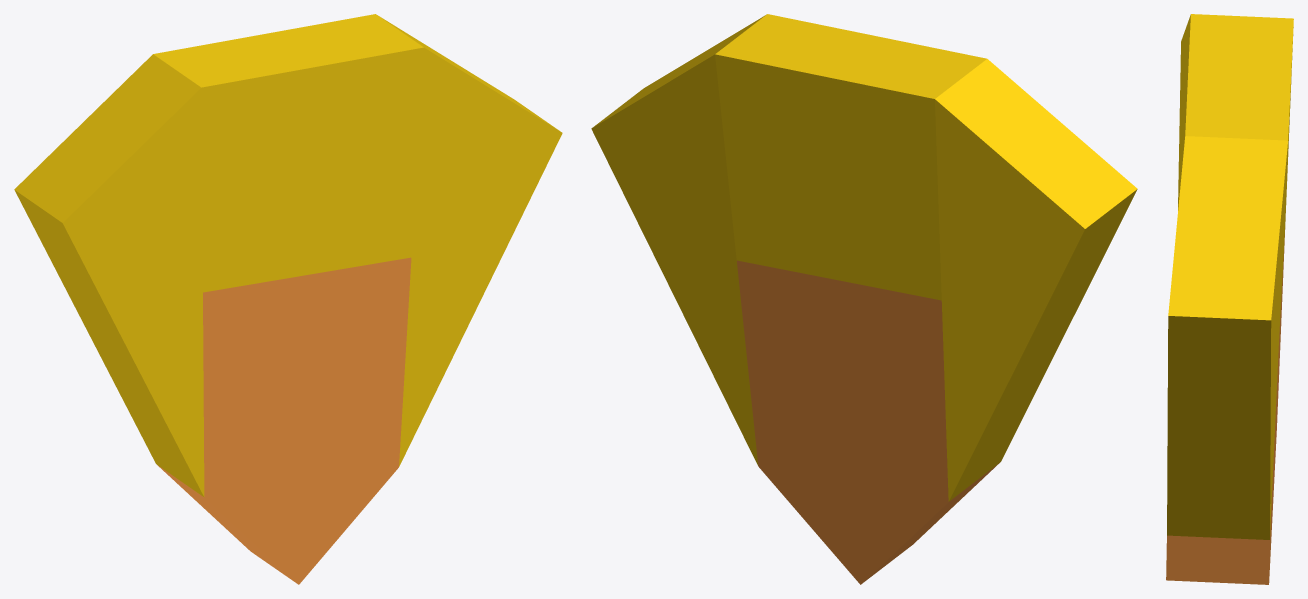
Rendered from CornPip.obj.
3 renders of one model, left to right at view 1: azimuth 30°, elevation 25°; view 2: azimuth 150°, elevation 25°; view 3: azimuth 270°, elevation 25°, orthographic. The views are drawn at different scales.
Visible parts, largest first — view 1: group1469751056; view 2: group1469751056; view 3: group1469751056.
Part boxes in pixels (box(x1,y1,x2,y2)): group1469751056: box(14, 14, 562, 584); group1469751056: box(591, 14, 1137, 584); group1469751056: box(1166, 14, 1293, 584).
Bounding box in the file's own units: 0.0684 × 0.0676 × 0.0149.
